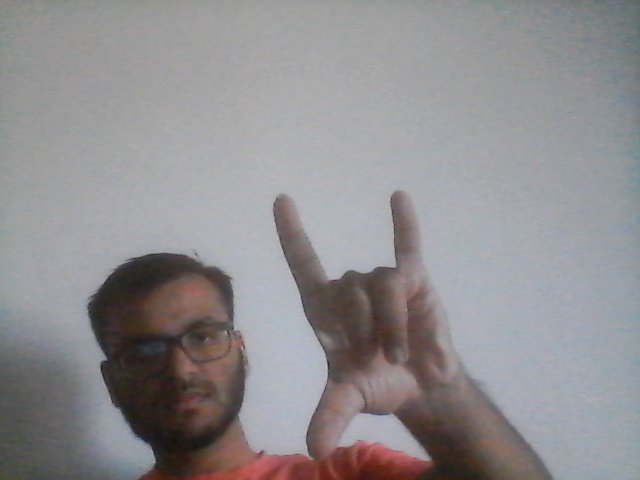I Love You: (265, 182, 472, 462)
